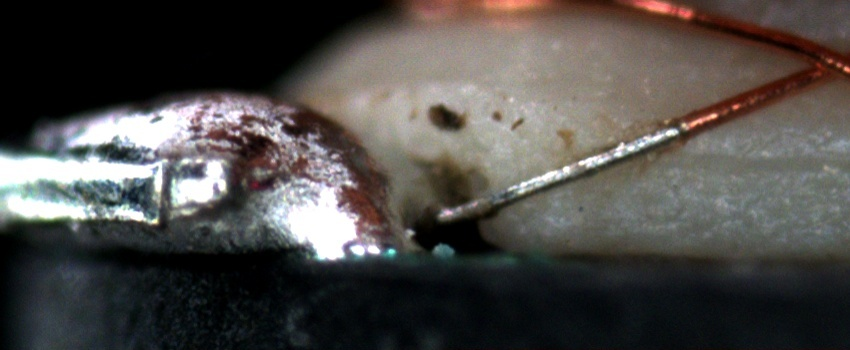CL: (789, 38, 850, 87)
DL: (635, 131, 850, 195)
TS: (431, 121, 686, 225)
